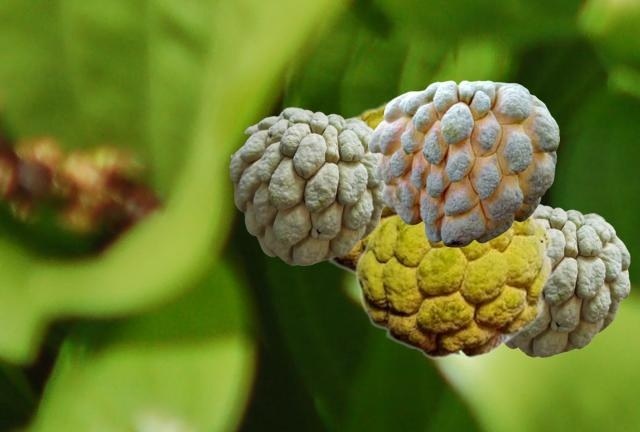atis: (368, 80, 558, 246), (354, 209, 552, 358), (229, 107, 386, 264), (505, 203, 629, 356), (327, 94, 398, 277)
